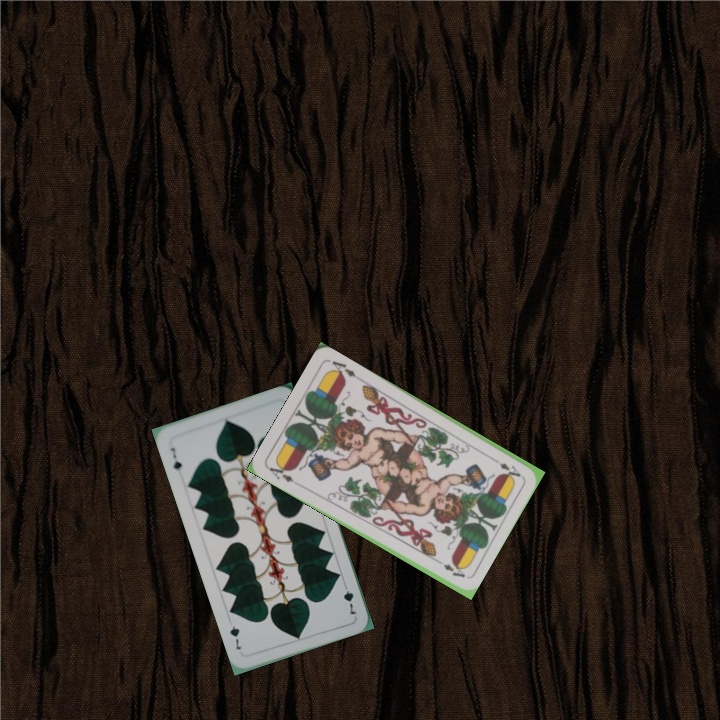EA: (265, 459, 302, 488), (487, 454, 523, 480)
G7: (339, 578, 359, 617), (166, 443, 184, 478)
